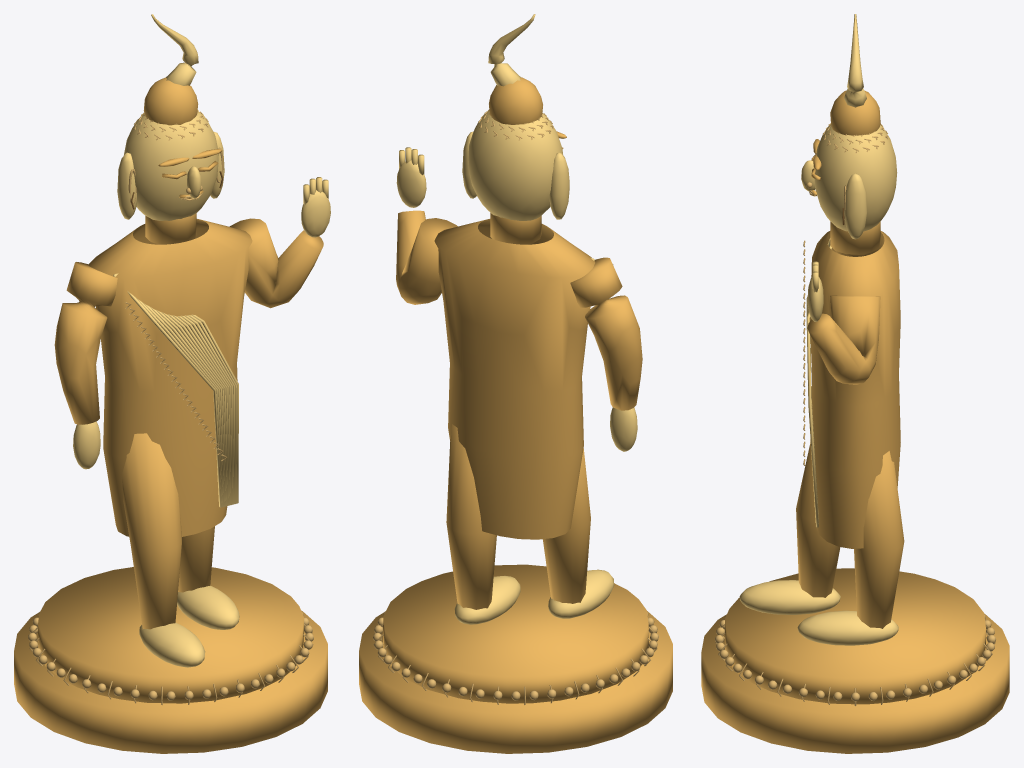
File: buddha-walking-refined.glb
3 views of the same model, side by side, from view 1: azimuth 30°, elevation 25°; view 2: azimuth 150°, elevation 25°; view 3: azimuth 270°, elevation 25° (orthographic).
Visible parts, largest first — view 1: buddha-walking / Antique warm gold, buddha-walking / Raised gold ornament, Cupid lip ridge.004; view 2: buddha-walking / Antique warm gold, buddha-walking / Raised gold ornament, Cupid lip ridge.004; view 3: buddha-walking / Antique warm gold, buddha-walking / Raised gold ornament, Cupid lip ridge.004.
Boxes of the visible parts, bbox=[...] form: buddha-walking / Antique warm gold: bbox=[14, 77, 327, 753]; buddha-walking / Raised gold ornament: bbox=[73, 14, 330, 667]; Cupid lip ridge.004: bbox=[28, 110, 313, 704]; buddha-walking / Antique warm gold: bbox=[359, 77, 672, 753]; buddha-walking / Raised gold ornament: bbox=[396, 14, 637, 624]; Cupid lip ridge.004: bbox=[373, 109, 658, 704]; buddha-walking / Antique warm gold: bbox=[701, 90, 1009, 753]; buddha-walking / Raised gold ornament: bbox=[739, 14, 898, 645]; Cupid lip ridge.004: bbox=[715, 123, 995, 705].
Size of the model in its own units: 1.72 by 4.05 by 1.7.
